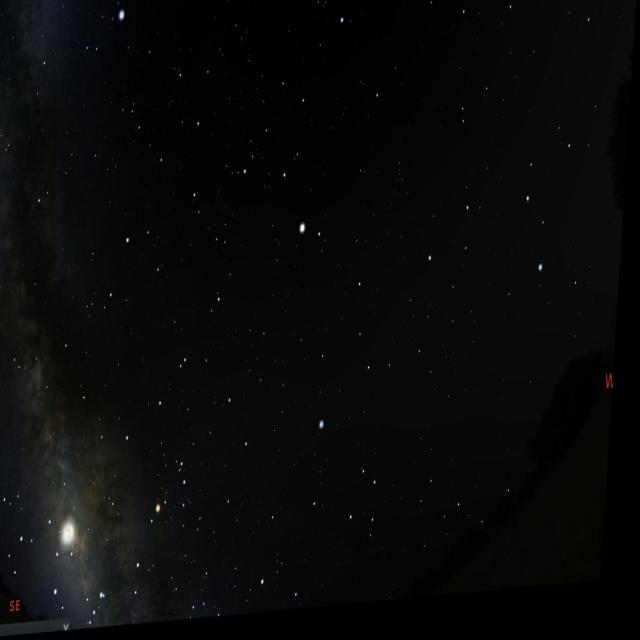bootes: (243, 54, 339, 272)
leo: (413, 129, 588, 315)
lyra: (78, 0, 131, 71)
moon: (56, 494, 100, 572)
scorpius: (91, 438, 201, 631)
